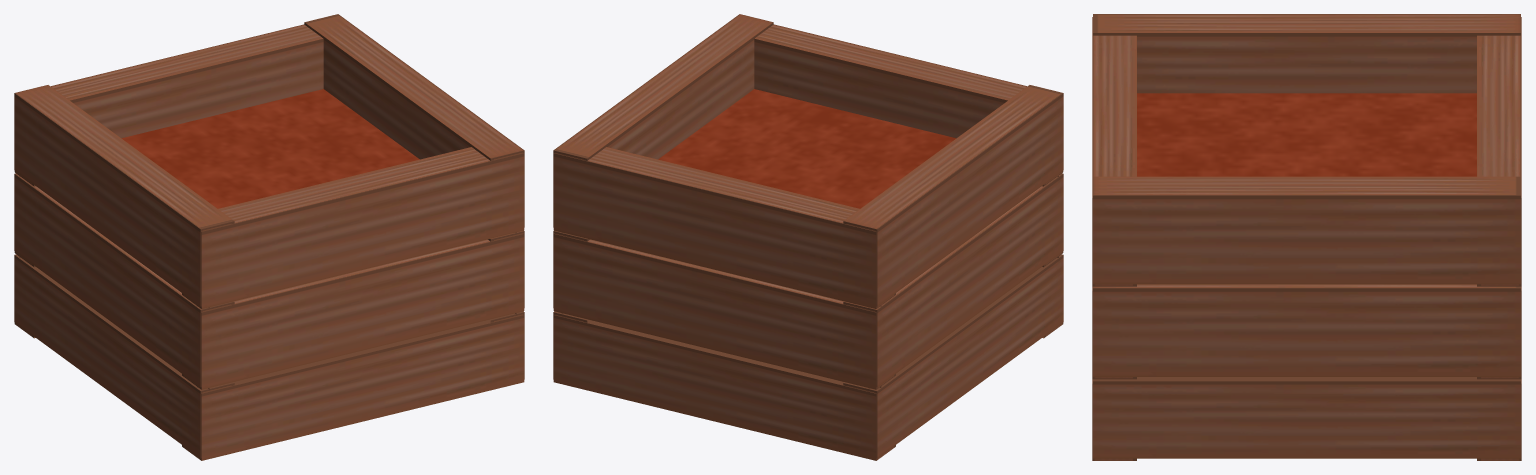
File: HardWoodFlowerBedHand.fbx
3 views of the same model, side by side, from view 1: azimuth 30°, elevation 25°; view 2: azimuth 150°, elevation 25°; view 3: azimuth 270°, elevation 25° (orthographic). The views are drawn at different scales.
Parts seen in each view (by area): view 1: Up, Right, FencePost, Down, Left; view 2: Down, Right, FencePost, Up, Left; view 3: Left, Right, FencePost, Up, Down.
Boxes of the visible parts, left/top/right/bottom form: Up: left=182, top=147, right=524, bottom=460; Right: left=14, top=85, right=234, bottom=458; FencePost: left=122, top=89, right=419, bottom=208; Down: left=14, top=24, right=323, bottom=338; Left: left=304, top=14, right=524, bottom=379; Down: left=553, top=147, right=895, bottom=460; Right: left=843, top=85, right=1063, bottom=458; FencePost: left=658, top=89, right=955, bottom=208; Up: left=754, top=24, right=1063, bottom=338; Left: left=553, top=14, right=773, bottom=379; Left: left=1093, top=176, right=1520, bottom=458; Right: left=1093, top=14, right=1520, bottom=93; FencePost: left=1137, top=93, right=1476, bottom=176; Up: left=1092, top=17, right=1136, bottom=460; Down: left=1477, top=17, right=1521, bottom=460.
Size of the model in its own units: 0.8027 by 0.548 by 0.8027.
